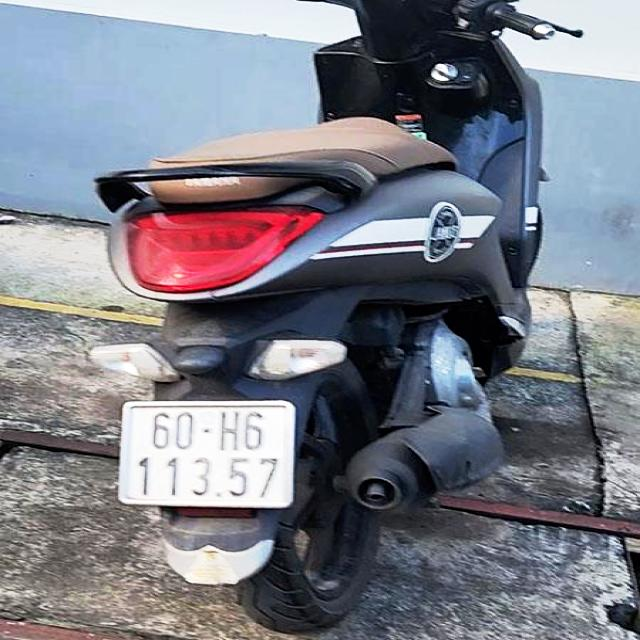license_plate: (121, 407, 293, 505)
